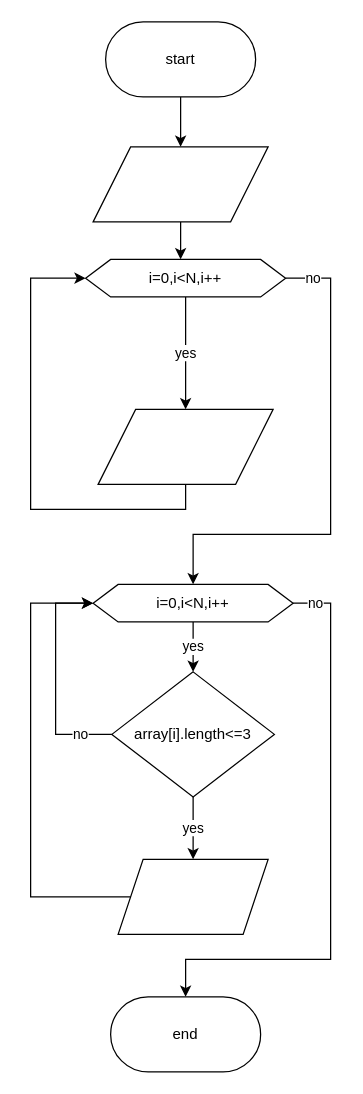
This 363x1094 diagram has some shape labels left out. Here are the shapes that lost their labels. From the top down, the box of each, then its label:
(92, 146, 268, 222): Ввод N
(97, 408, 273, 484): Ввод array[i]
(117, 858, 268, 934): Вывод array[i]
